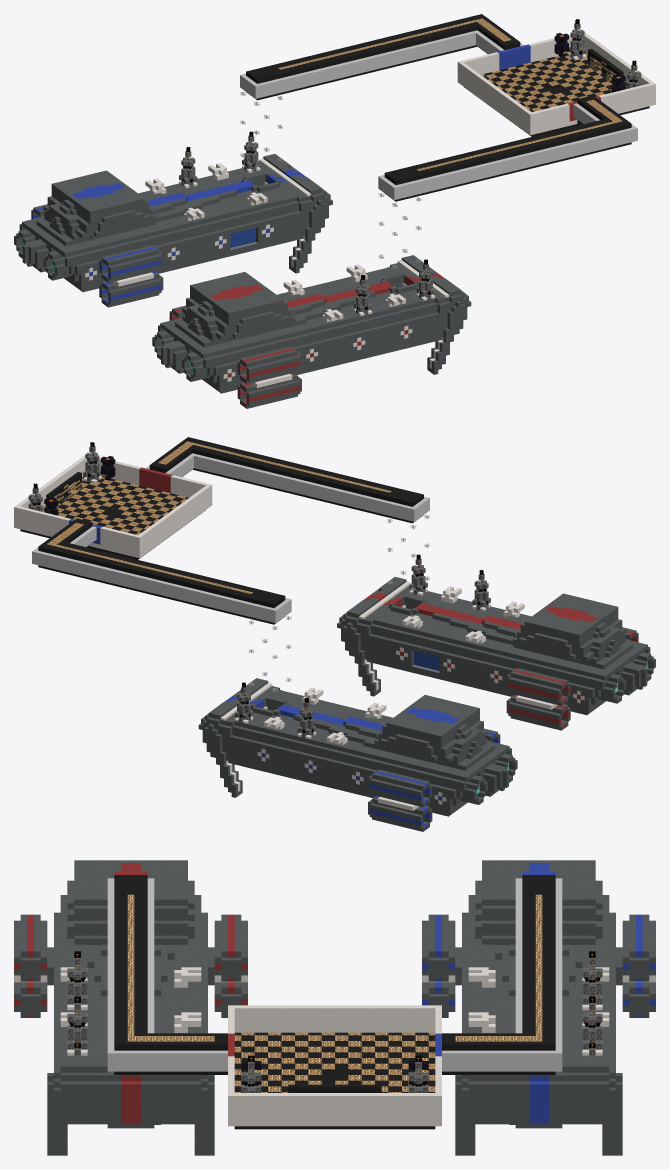
Rendered from minecraft.obj.
3 renders of one model, top to bottom at view 1: azimuth 30°, elevation 25°; view 2: azimuth 150°, elevation 25°; view 3: azimuth 270°, elevation 25°, orthographic. The views are drawn at different scales.
Bounding box in the file's own units: 1340 × 480 × 960.
